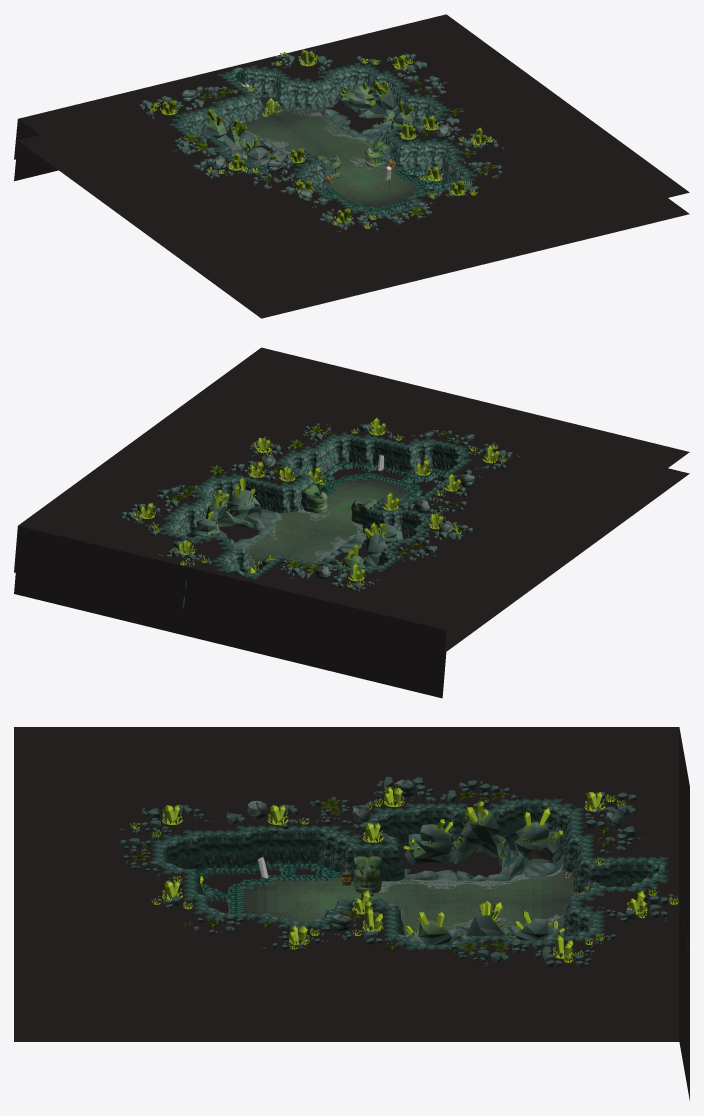
3 renders of one model, top to bottom at view 1: azimuth 30°, elevation 25°; view 2: azimuth 150°, elevation 25°; view 3: azimuth 270°, elevation 25°, orthographic. The views are drawn at different scales.
Size of the model in its own units: 64 by 11.75 by 64.
